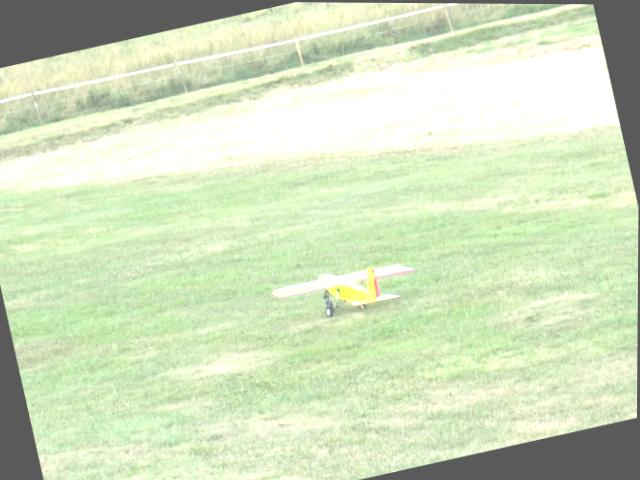plane: (269, 251, 421, 330)
